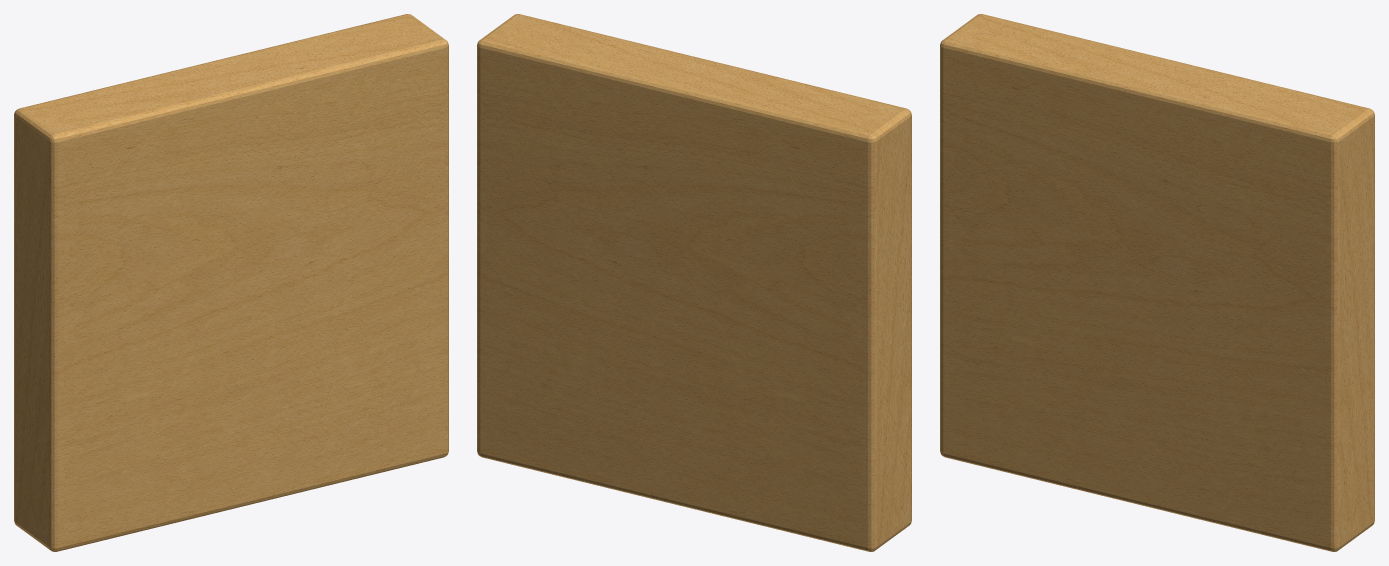
3 renders of one model, left to right at view 1: azimuth 30°, elevation 25°; view 2: azimuth 150°, elevation 25°; view 3: azimuth 330°, elevation 25°, orthographic.
Parts seen in each view (by area): view 1: plank_washer_target_point; view 2: plank_washer_target_point; view 3: plank_washer_target_point.
Boxes of the visible parts, x1=… form: plank_washer_target_point: x1=14, y1=14, x2=448, y2=551; plank_washer_target_point: x1=477, y1=14, x2=911, y2=551; plank_washer_target_point: x1=940, y1=14, x2=1374, y2=551.
Bounding box in the file's own units: 0.085 × 0.085 × 0.015.
Materials: 1 (1 with a texture image).
